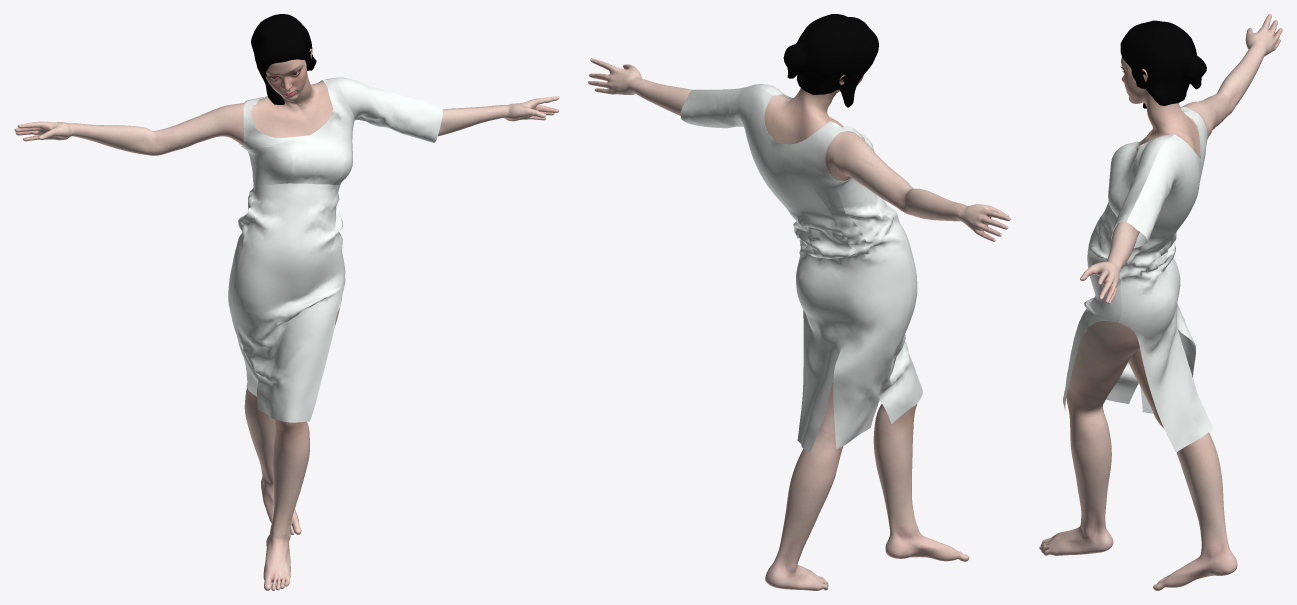
The model's file is Dynamic.obj.
The picture shows the model from 3 angles, left to right: view 1: azimuth 30°, elevation 25°; view 2: azimuth 150°, elevation 25°; view 3: azimuth 270°, elevation 25°; orthographic projection. The views are drawn at different scales.
Size of the model in its own units: 1601 by 1717 by 679.
